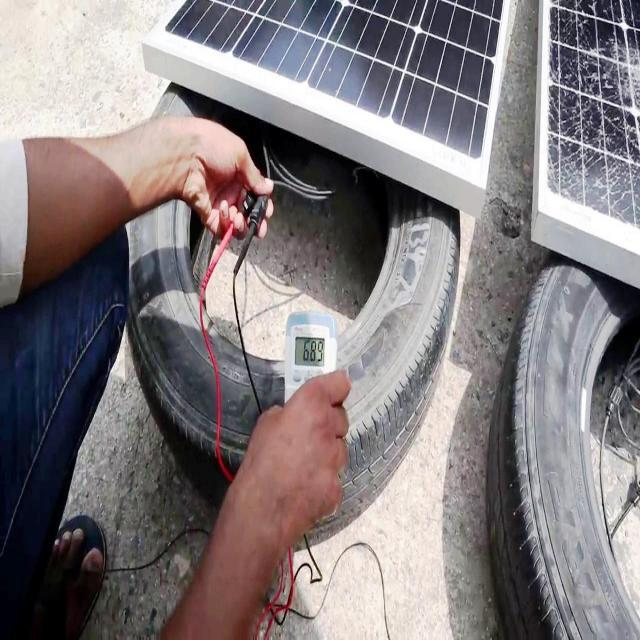faulty: (537, 3, 640, 274)
no faulty: (153, 0, 512, 166)
